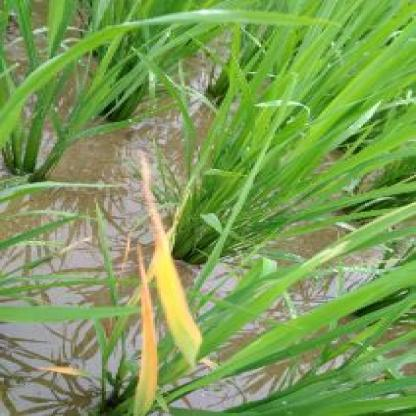Tungro: (131, 169, 203, 416)
